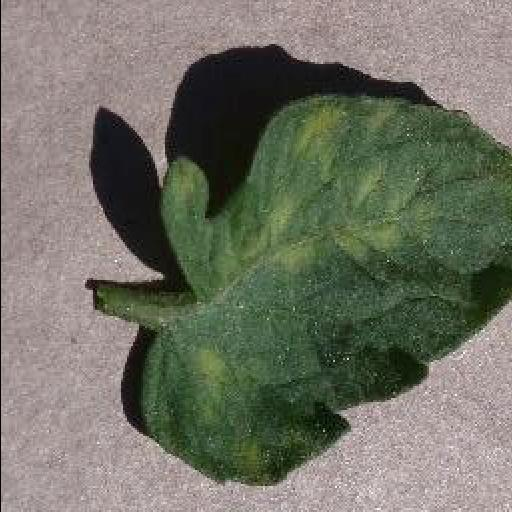disease_tomato: (146, 94, 512, 486)
